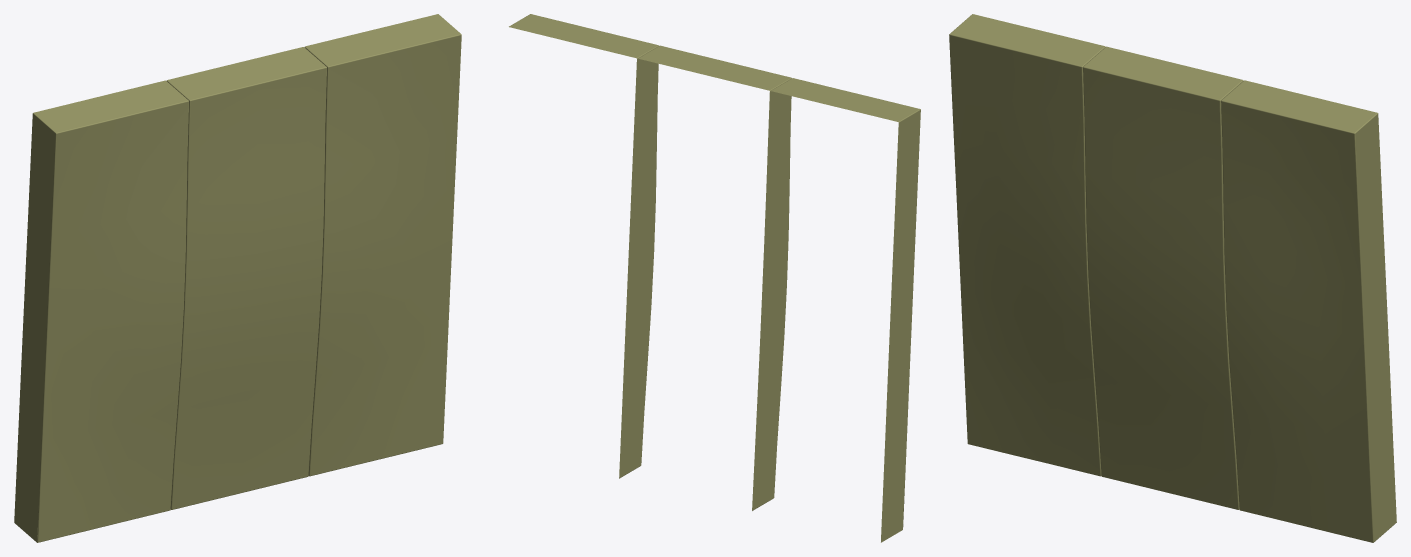
Rendered from bronze.glb.
3 views of the same model, side by side, from view 1: azimuth 30°, elevation 25°; view 2: azimuth 150°, elevation 25°; view 3: azimuth 330°, elevation 25° (orthographic). The views are drawn at different scales.
Visible parts, largest first — view 1: Object012; view 2: Object012; view 3: Object012.
Part boxes in pixels (x1,y1,x2,y2): Object012: (14,14,461,542); Object012: (509,14,920,542); Object012: (949,14,1396,542).
Bounding box in the file's own units: 0.0528 × 0.053 × 0.00946.
